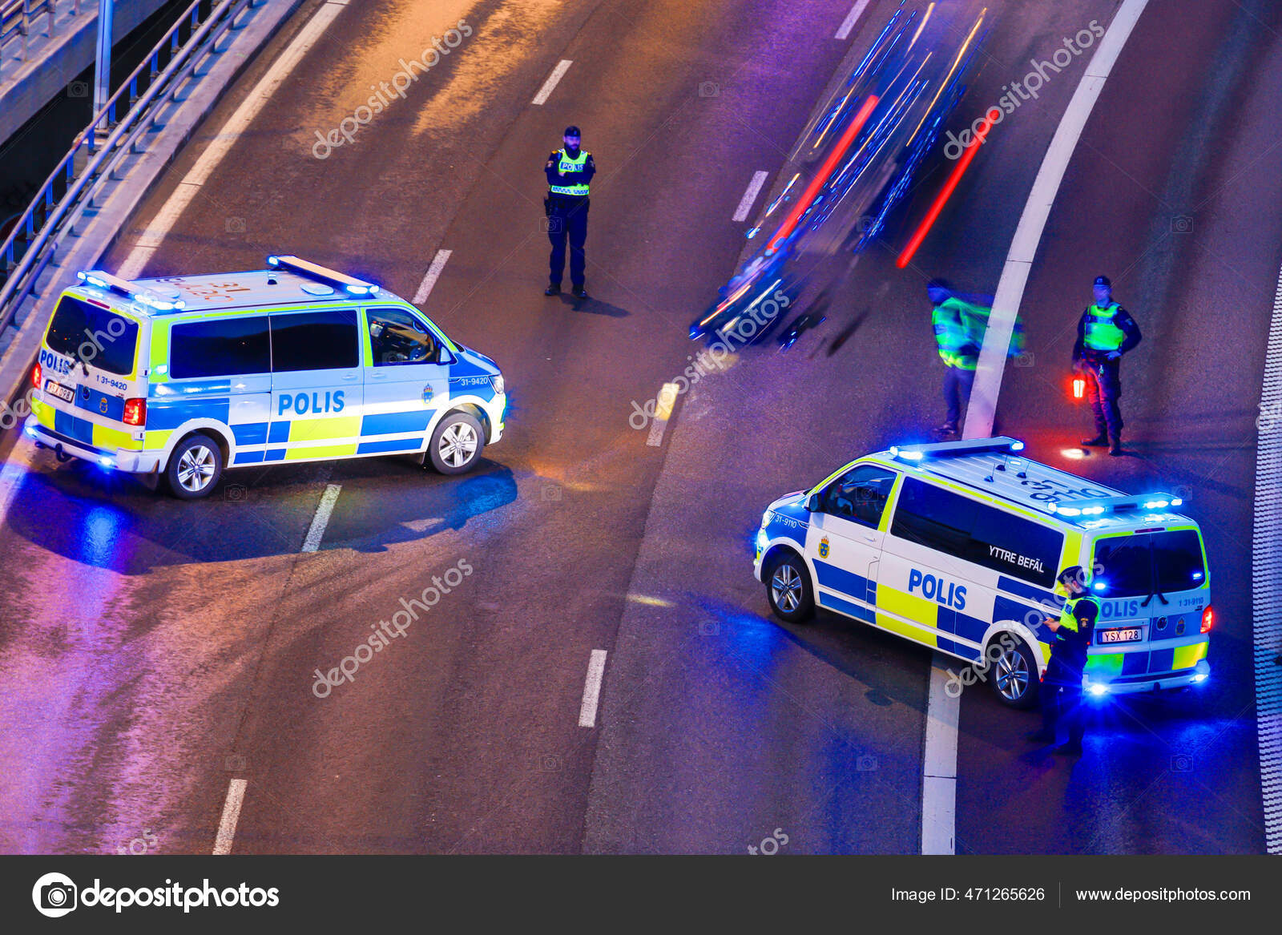Car: (737, 413, 1220, 744), (26, 256, 502, 483)
Person: (535, 119, 601, 324), (1067, 279, 1135, 464)
